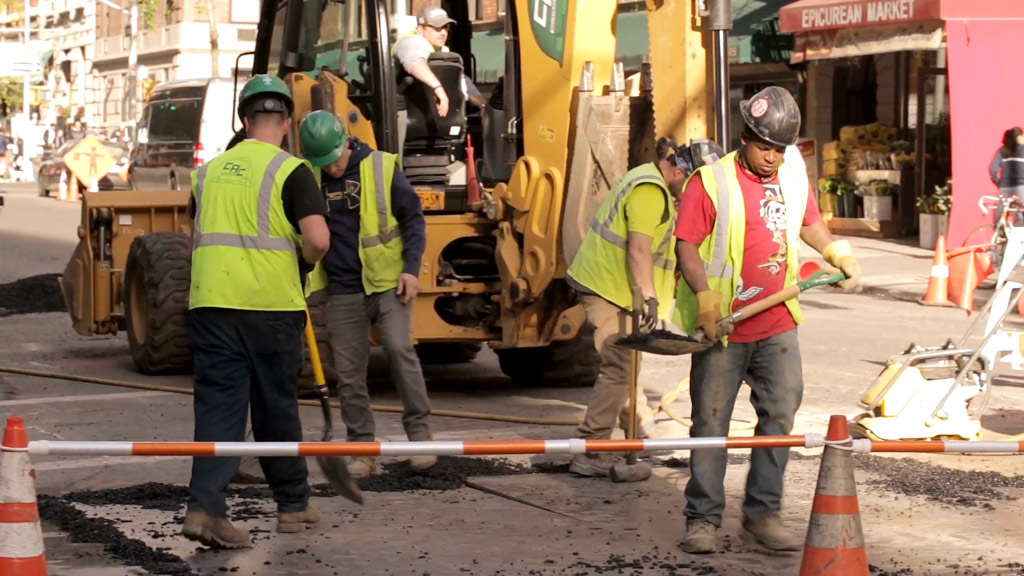epi: (673, 77, 861, 564), (185, 69, 330, 546), (292, 109, 451, 471), (567, 140, 732, 473)
noepi: (388, 3, 490, 141), (986, 123, 1024, 232)
